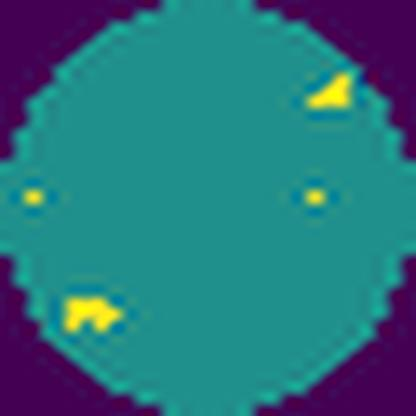Edge-Loc: (63, 290, 122, 338), (300, 68, 352, 116)
